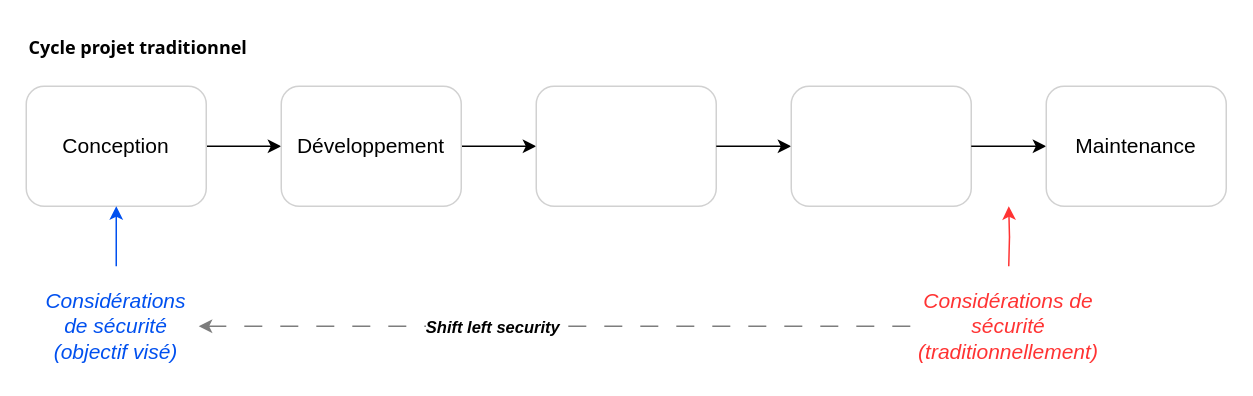
Some shapes in this 1253 by 396 pixel diagram are drawn without their labels. Here are the shapes that lost their labels. From the top down, the centre of each, then its label:
At point 625,145: "Tests".
At point 880,145: "Déploiement".
